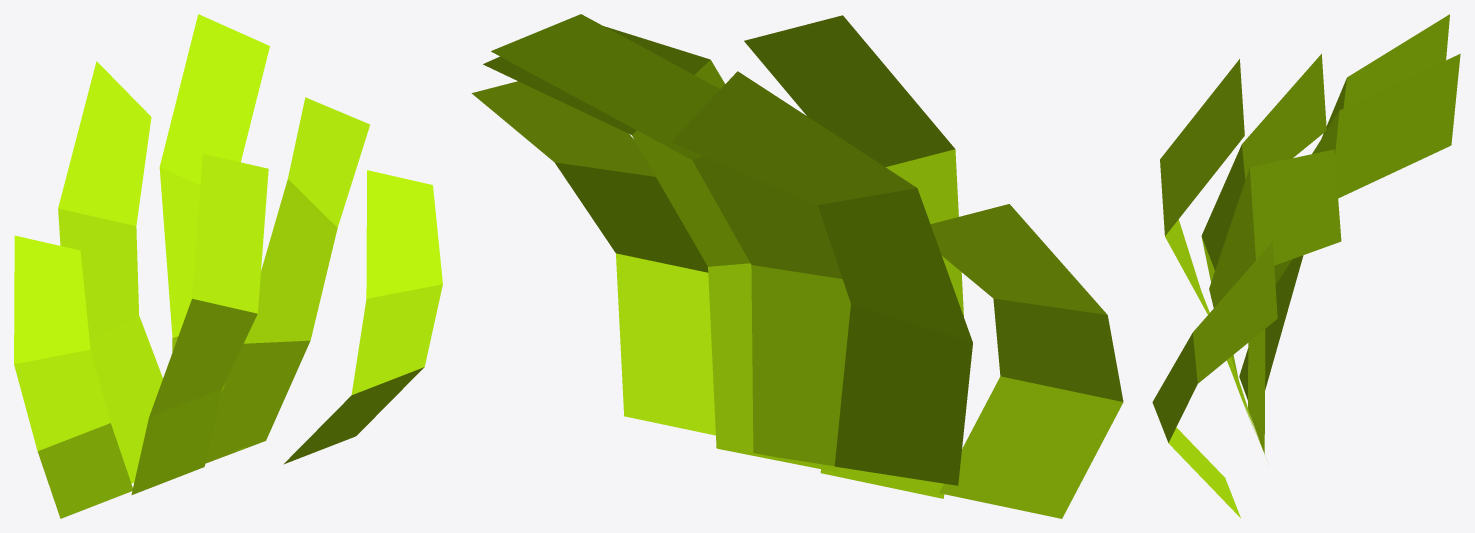
File: bush_1.FBX
The picture shows the model from 3 angles, left to right: view 1: azimuth 30°, elevation 25°; view 2: azimuth 150°, elevation 25°; view 3: azimuth 270°, elevation 25°; orthographic projection. The views are drawn at different scales.
Parts seen in each view (by area): view 1: grass; view 2: grass; view 3: grass.
Part boxes in pixels (bbox=[...]): grass: bbox=[14, 14, 442, 518]; grass: bbox=[471, 14, 1123, 518]; grass: bbox=[1152, 14, 1460, 517].
Size of the model in its own units: 2191 by 1157 by 1796.
